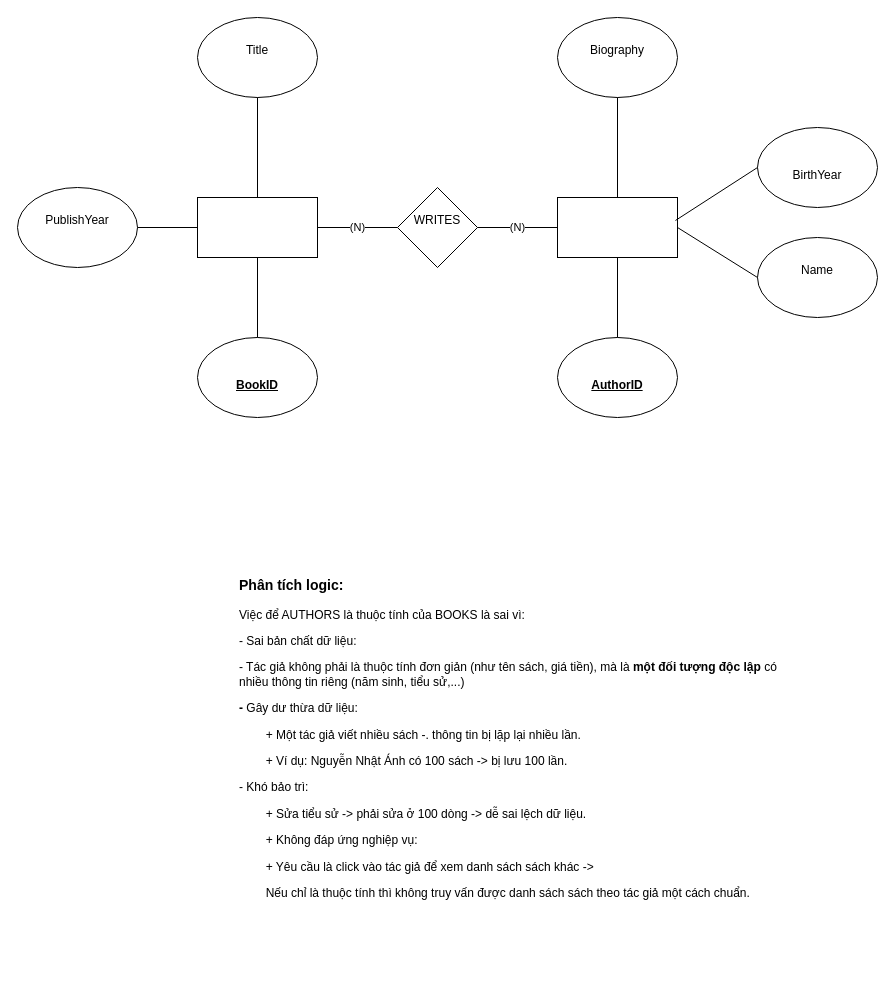
Some shapes in this 895 by 1005 pixel diagram are drawn without their labels. The shapes that lost their labels are listed below. From the top down, each one's box as (x1, y1, x2, y2) in pixels, then its label:
(196, 196, 318, 258): BOOKS
(556, 196, 678, 258): AUTHORS
